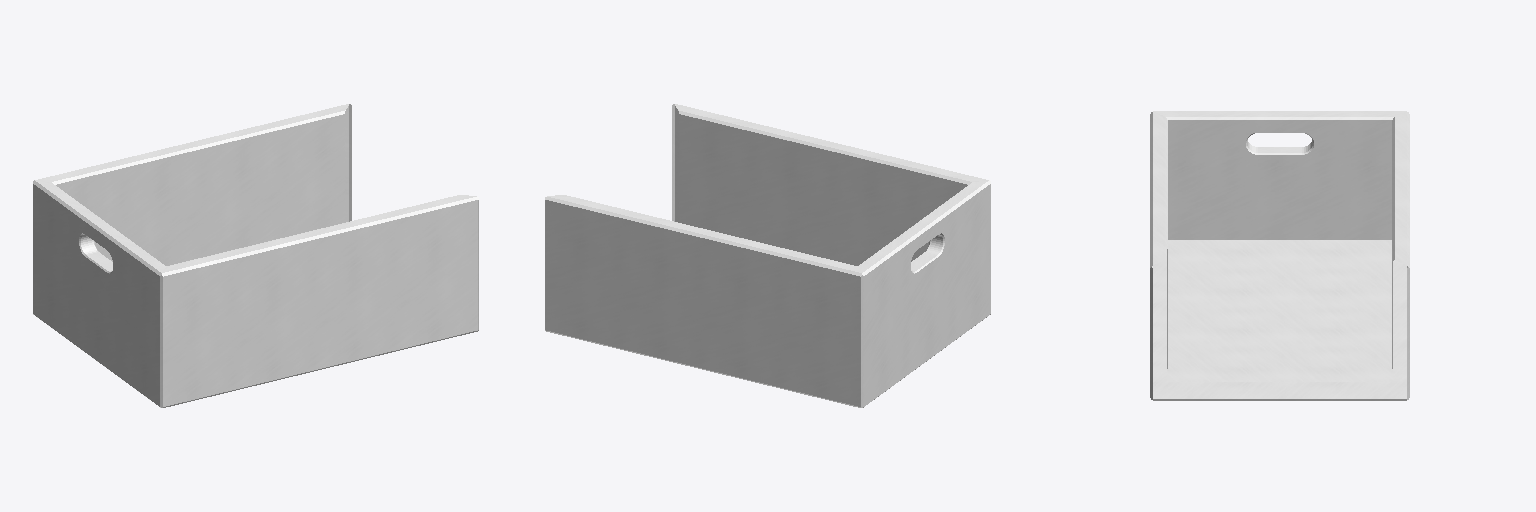
3 renders of one model, left to right at view 1: azimuth 30°, elevation 25°; view 2: azimuth 150°, elevation 25°; view 3: azimuth 270°, elevation 25°, orthographic.
Size of the model in its own units: 2.01 by 0.8141 by 1.41.
1 materials, 1 textured.